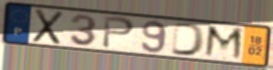3: (68, 13, 100, 47)
9: (139, 19, 168, 54)
D: (170, 21, 208, 58)
M: (202, 23, 245, 62)
P: (100, 15, 137, 50)
X: (31, 7, 66, 46)
